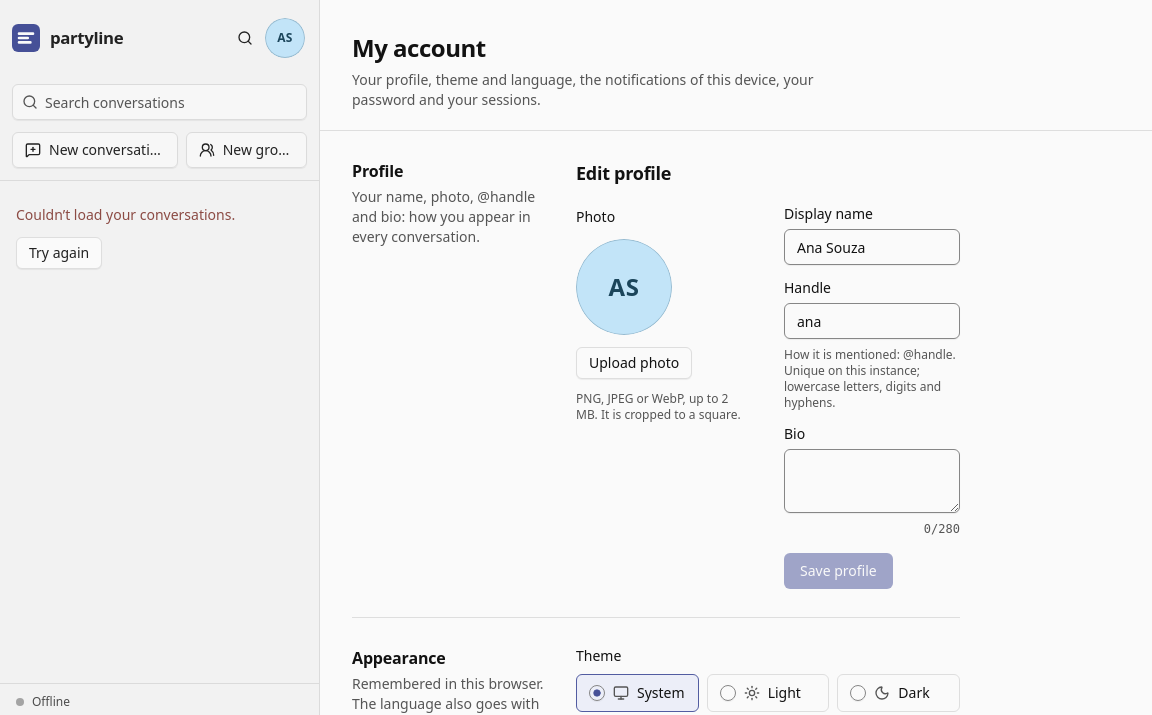
Test: account page › saves the profile and shows the new name in the sidebar right away (PROF-03)
Replace the text in the field labelled "Display name" with "Ana S." at (872, 247), box [784,229,960,265]
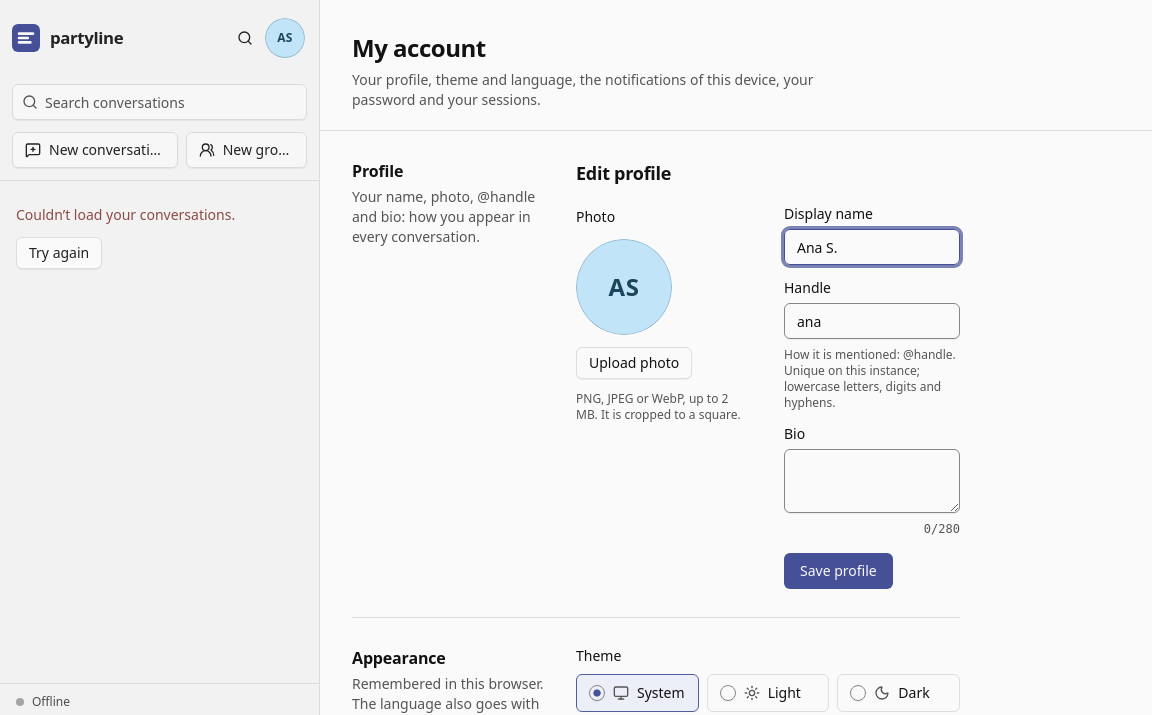
Type "On call this week." into the text box labelled "Bio" at (872, 481), box [784,449,960,513]
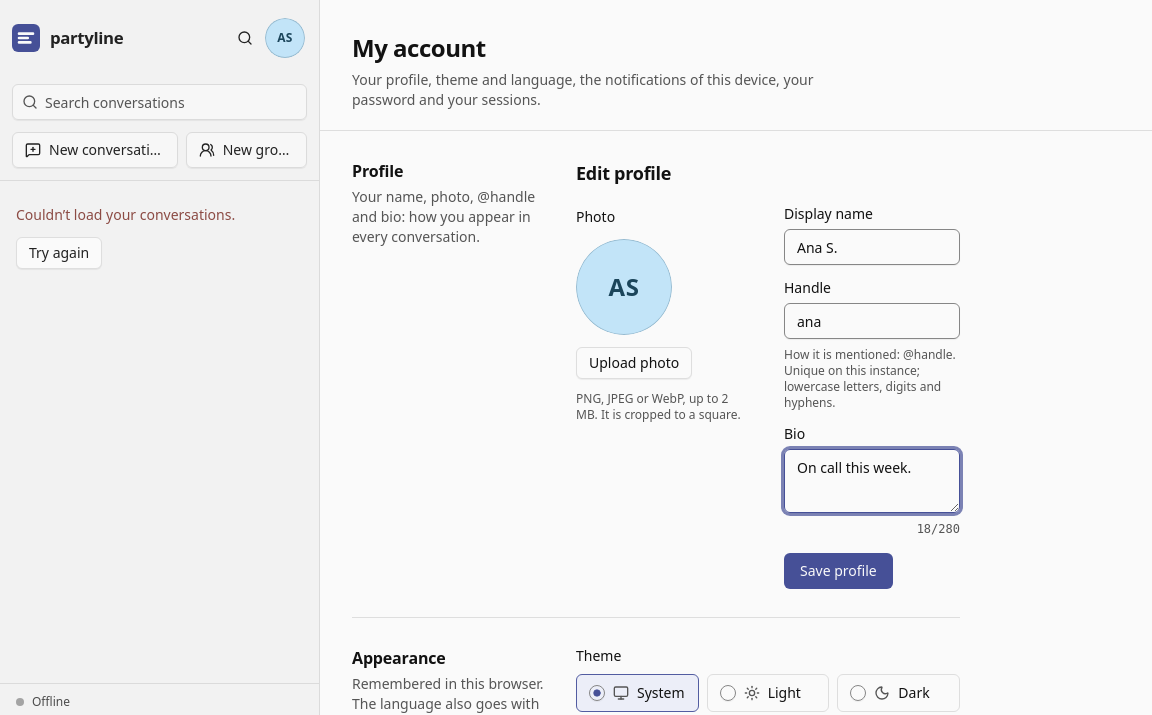
Click the button "Save profile" at (838, 571), box [784,553,893,589]
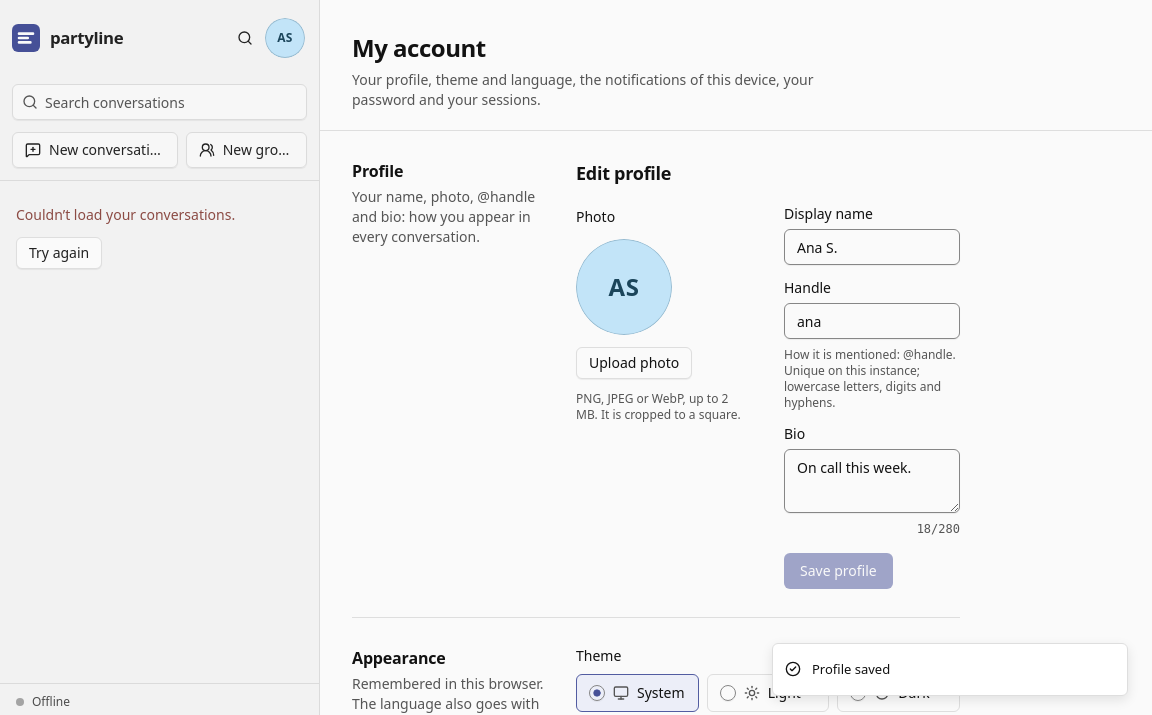
// The account menu reads the account's own data, which the answer patched.
Click the button with aria-label "Account menu" at (285, 38), box [263,16,307,60]
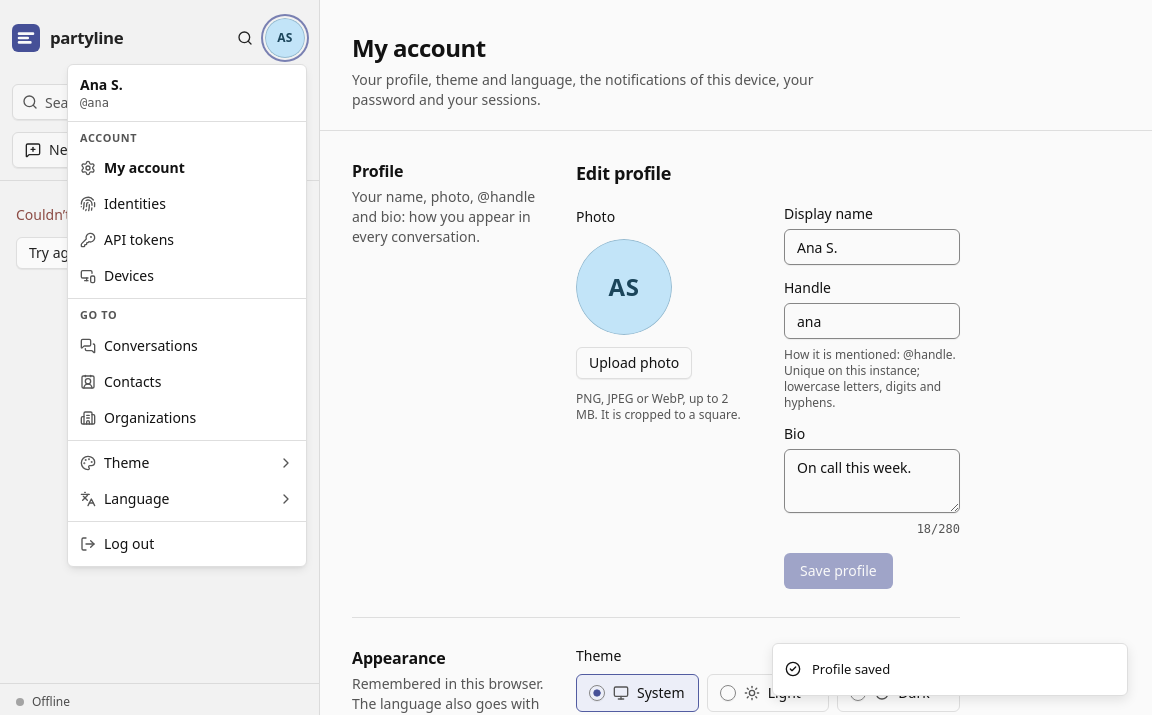
Check: the text "Ana S." is shown, box [80,75,123,94]
